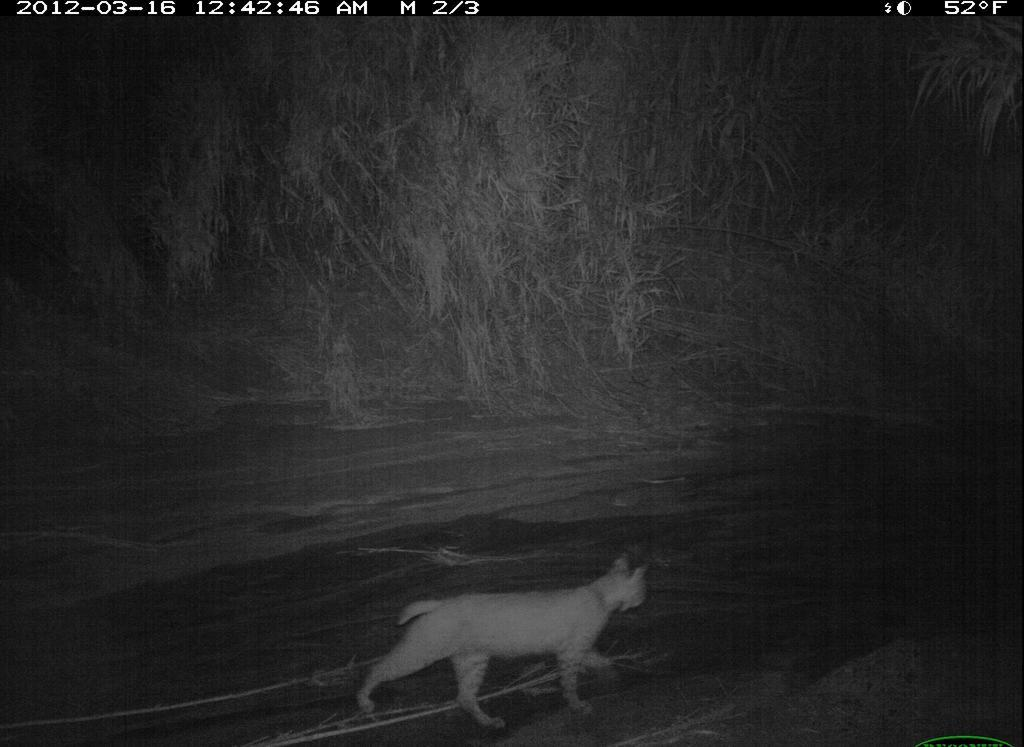bobcat: (333, 551, 679, 745)
